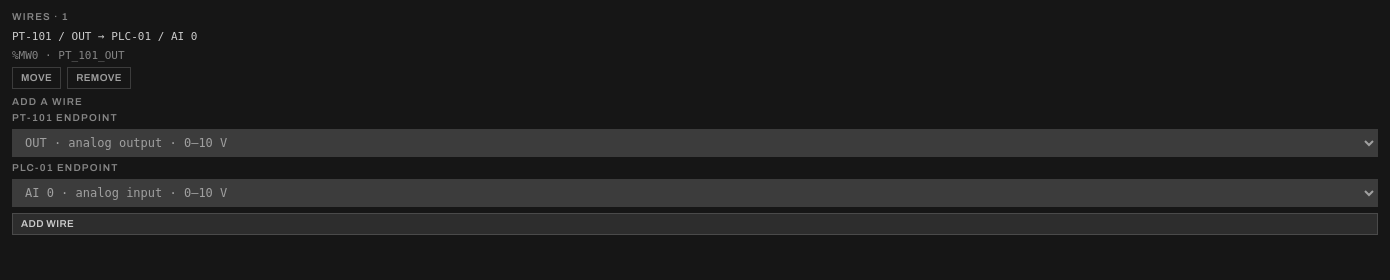
Scenario: wiring editor › leaves a wire alone when moving it is given up
Expected: the text "PT-101 / OUT → PLC-01 / AI 0" is shown, [12,30,197,43]
Click the button with aria-label "Move the wire PT-101 / OUT → PLC-01 / AI 0". click: (37, 78)
box: [12,67,61,89]
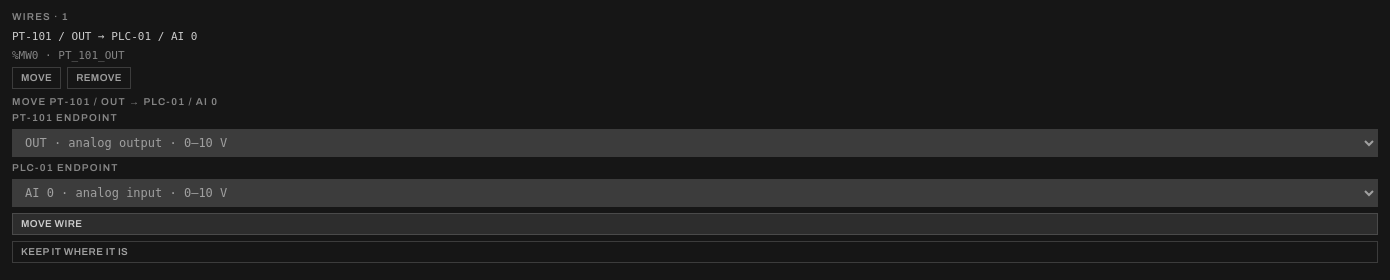
Click the button "Keep it where it is". click: (75, 252)
box: [12,241,1378,263]
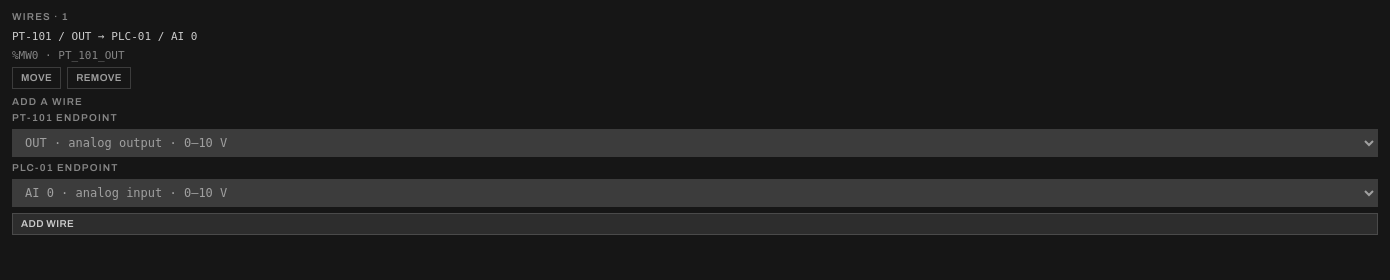
Expected: the text "Add a wire" is shown, [12,96,83,107]
